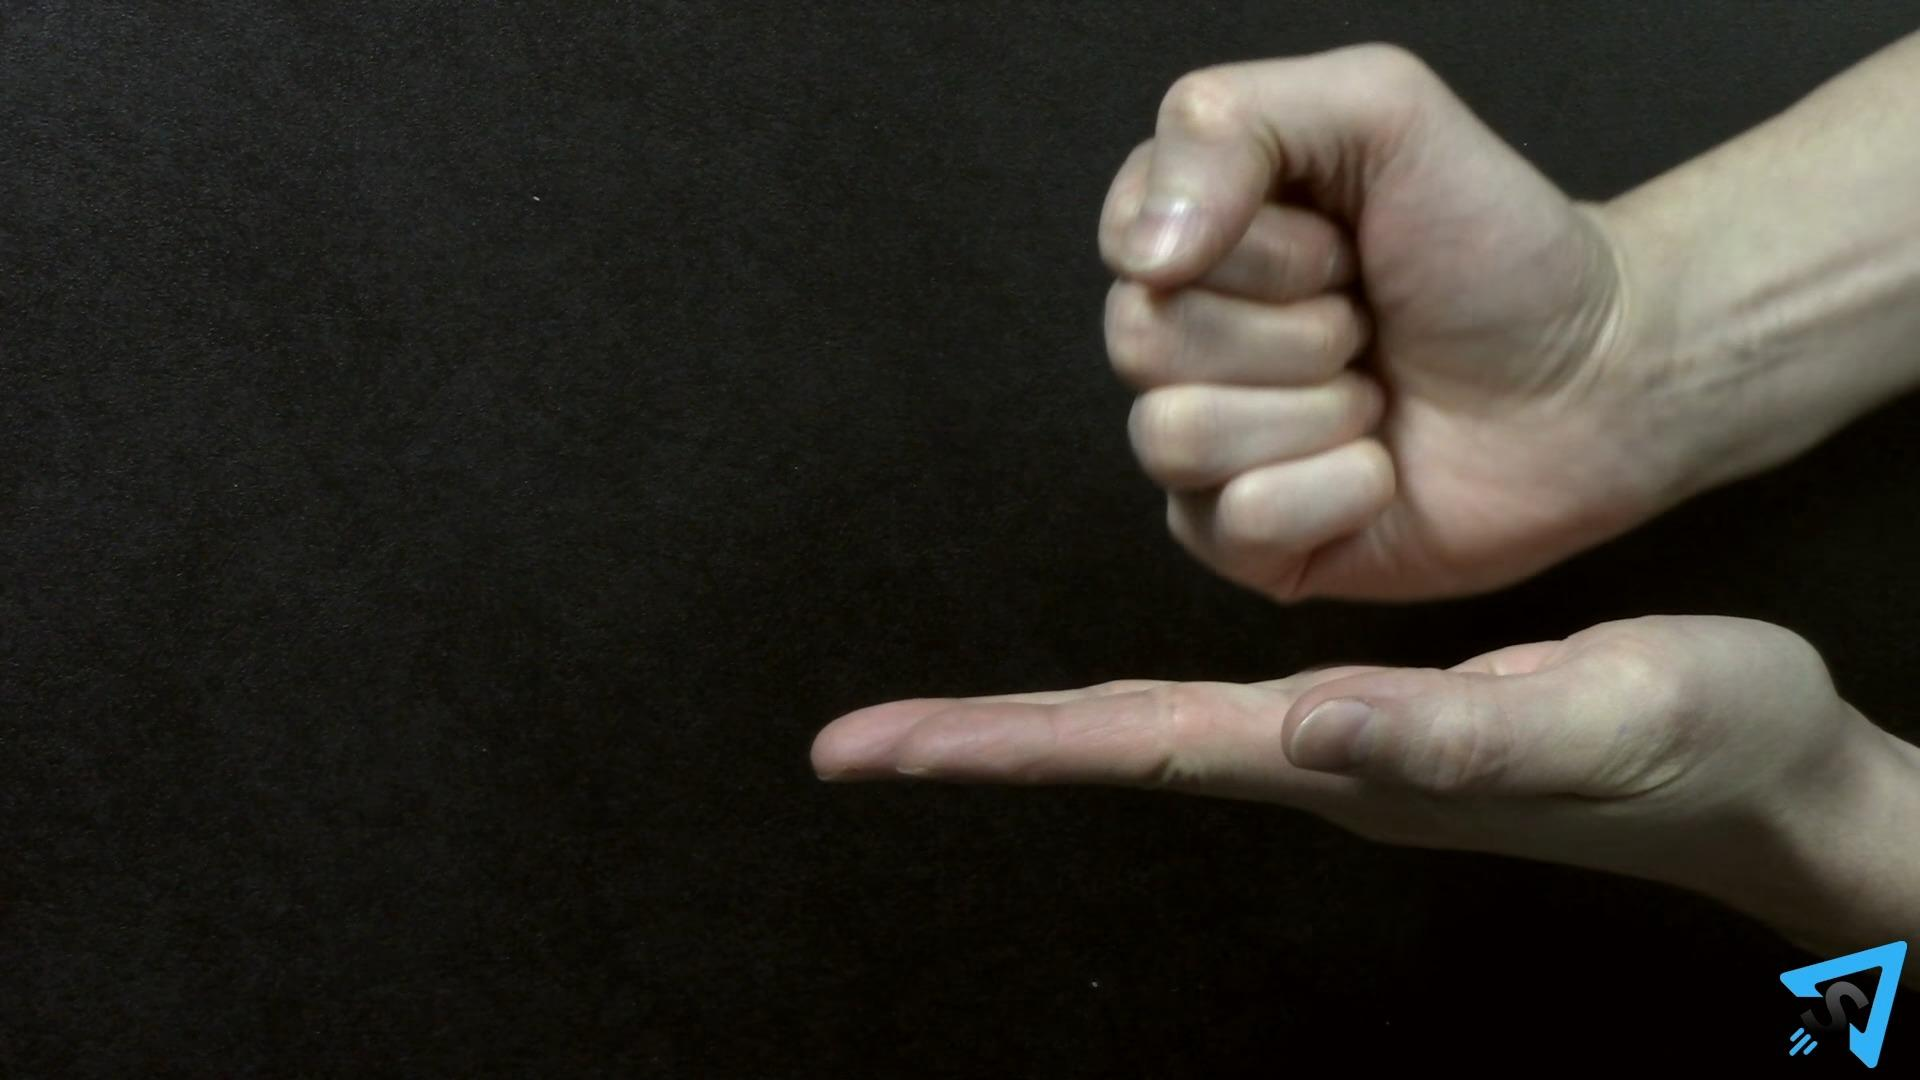Rock: (1088, 42, 1676, 612)
